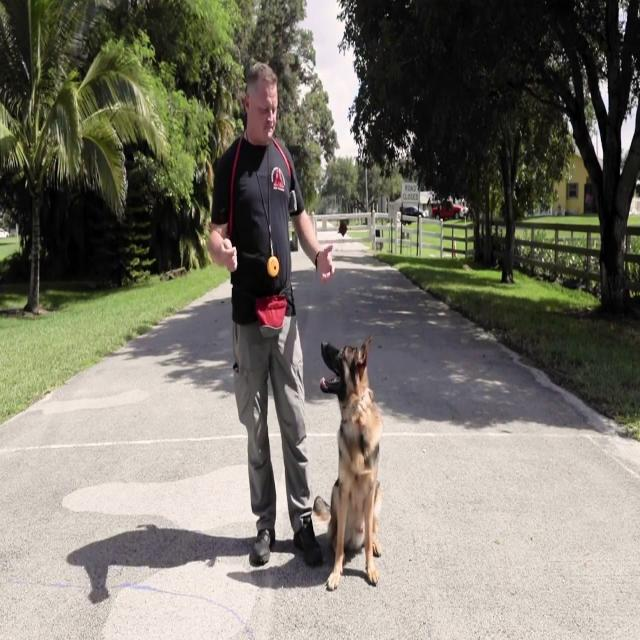Unleashed_Dog: (247, 319, 383, 592)
